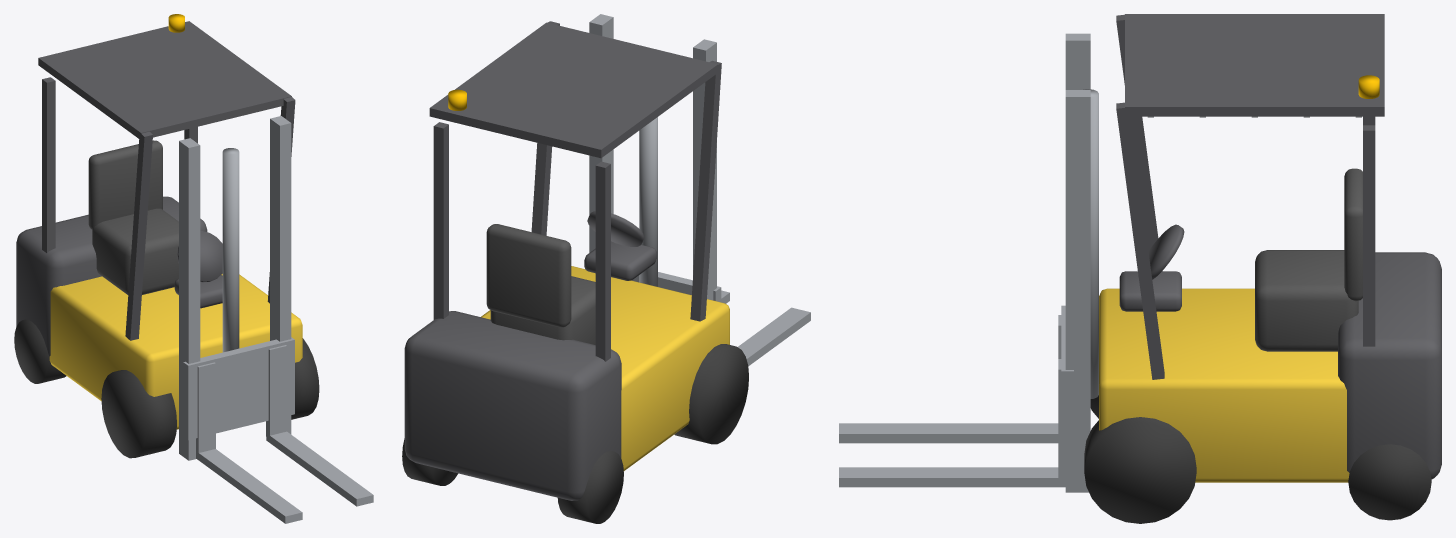
Rendered from forklift.glb.
3 renders of one model, left to right at view 1: azimuth 30°, elevation 25°; view 2: azimuth 150°, elevation 25°; view 3: azimuth 270°, elevation 25°, orthographic. The views are drawn at different scales.
Parts seen in each view (by area): view 1: Cube.009, Cube, Cube.001, Cube.021, Cube.015, Cube.002, Cube.018, Cylinder.002, Cube.003, Cylinder.001, Cube.005, Cube.006 (+9 smaller); view 2: Cube.001, Cube.009, Cube, Cube.003, Cylinder.002, Cube.005, Cube.006, Cube.008, Cube.002, Cylinder.003, Cylinder.001, Cube.015 (+7 smaller); view 3: Cube, Cube.009, Cube.001, Cylinder.004, Cube.018, Cube.002, Cylinder.005, Cube.019, Cube.016, Cube.007, Cube.008, Cylinder.001 (+6 smaller).
Boxes of the visible parts, x1,y1,x2,y2 form: Cube.009: [38, 21, 291, 139]; Cube: [49, 274, 302, 429]; Cube.001: [16, 196, 207, 356]; Cube.021: [183, 337, 294, 440]; Cube.015: [179, 138, 200, 460]; Cube.002: [92, 208, 178, 294]; Cube.018: [270, 116, 291, 434]; Cylinder.002: [101, 370, 176, 458]; Cube.003: [88, 140, 162, 229]; Cylinder.001: [222, 148, 239, 352]; Cube.005: [125, 131, 152, 340]; Cube.006: [42, 77, 55, 252]; Cube.001: [404, 311, 621, 500]; Cube.009: [429, 22, 717, 158]; Cube: [481, 266, 729, 470]; Cube.003: [486, 224, 571, 327]; Cylinder.002: [674, 344, 748, 444]; Cube.005: [690, 60, 721, 321]; Cube.006: [595, 161, 610, 361]; Cube.008: [433, 122, 448, 319]; Cube.002: [490, 276, 595, 344]; Cylinder.003: [557, 451, 623, 523]; Cylinder.001: [639, 117, 657, 286]; Cube.015: [693, 39, 716, 300]; Cube: [1099, 288, 1349, 482]; Cube.009: [1125, 14, 1384, 116]; Cube.001: [1338, 252, 1441, 479]; Cylinder.004: [1084, 417, 1196, 523]; Cube.018: [1065, 90, 1090, 492]; Cube.002: [1255, 250, 1358, 351]; Cylinder.005: [1348, 444, 1431, 520]; Cube.019: [839, 467, 1065, 487]; Cube.016: [839, 423, 1058, 443]; Cube.007: [1116, 102, 1164, 379]; Cube.008: [1363, 125, 1375, 346]; Cylinder.001: [1083, 89, 1098, 398].
Size of the model in its own units: 1.22 by 2.26 by 2.9.
